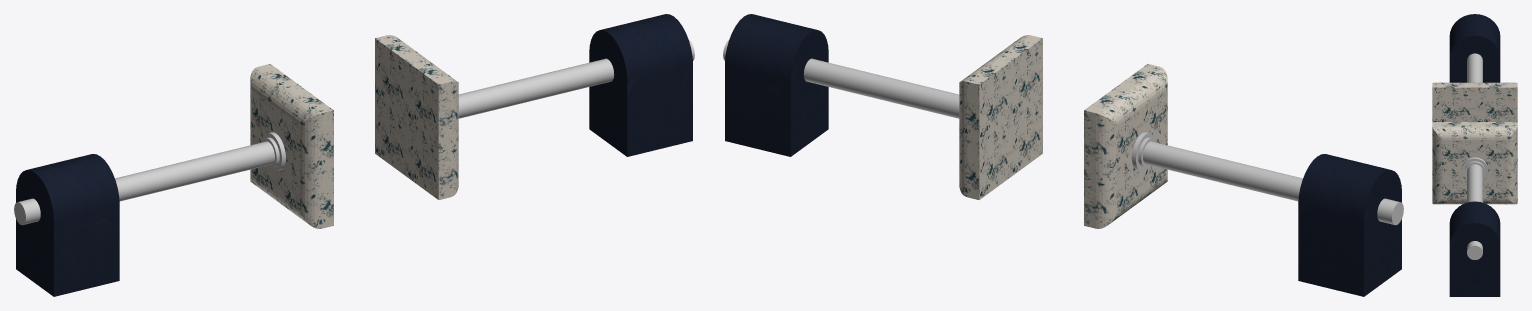
File: Press_Machine_fbx.fbx
The picture shows the model from 3 angles, left to right: view 1: azimuth 30°, elevation 25°; view 2: azimuth 150°, elevation 25°; view 3: azimuth 270°, elevation 25°; orthographic projection. The views are drawn at different scales.
Visible parts, largest first — view 1: Press_Head, Press_Head .001, Press_Base, Press_Base.001; view 2: Press_Head, Press_Head .001, Press_Base, Press_Base.001; view 3: Press_Head .001, Press_Base.001, Press_Head, Press_Base.
Boxes of the visible parts, bbox=[...] form: Press_Head: bbox=[14, 64, 333, 228]; Press_Head .001: bbox=[375, 35, 694, 199]; Press_Base: bbox=[16, 154, 119, 296]; Press_Base.001: bbox=[589, 14, 692, 156]; Press_Head: bbox=[1084, 64, 1403, 228]; Press_Head .001: bbox=[723, 35, 1042, 199]; Press_Base: bbox=[1298, 154, 1401, 296]; Press_Base.001: bbox=[725, 14, 828, 156]; Press_Head .001: bbox=[1432, 122, 1517, 259]; Press_Base.001: bbox=[1449, 201, 1500, 296]; Press_Head: bbox=[1432, 53, 1517, 121]; Press_Base: bbox=[1449, 14, 1500, 82].
Bounding box in the file's own units: 2031 × 379 × 335.
